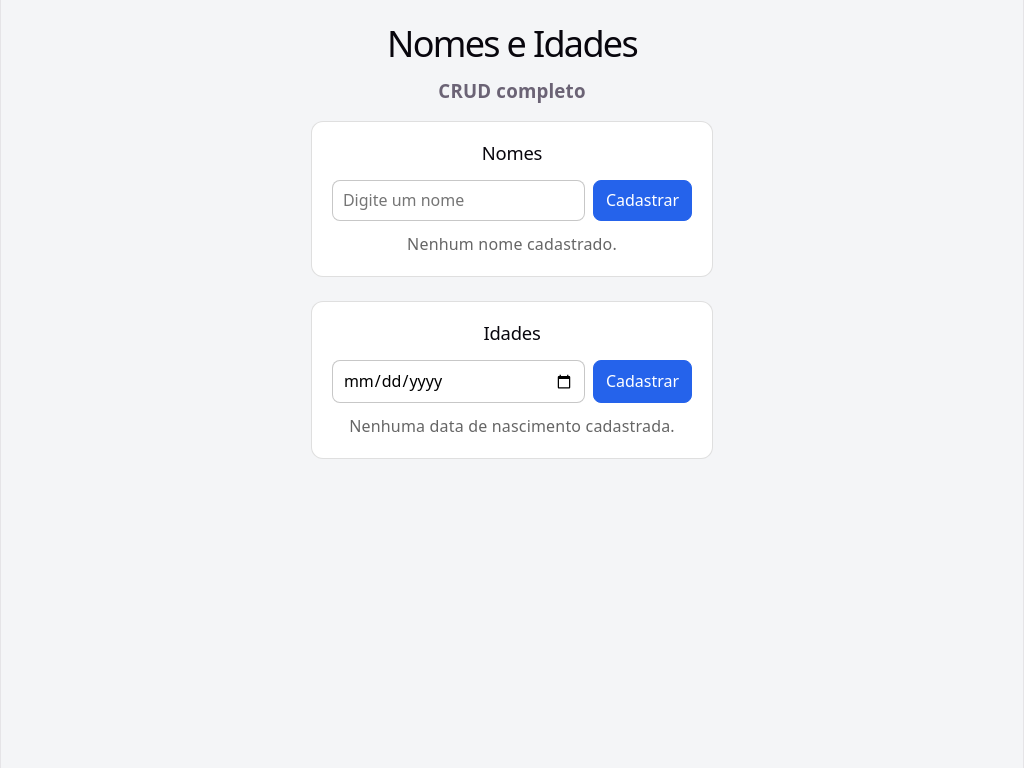
Test: nomes (CRUD) › cadastra um nome, mostra na lista e limpa o campo
Expected: the text "Nenhum nome cadastrado." is shown, [407,233,617,255]
Type "Maria" into the field named "Novo valor" at x=458, y=200, box [332,180,585,221]
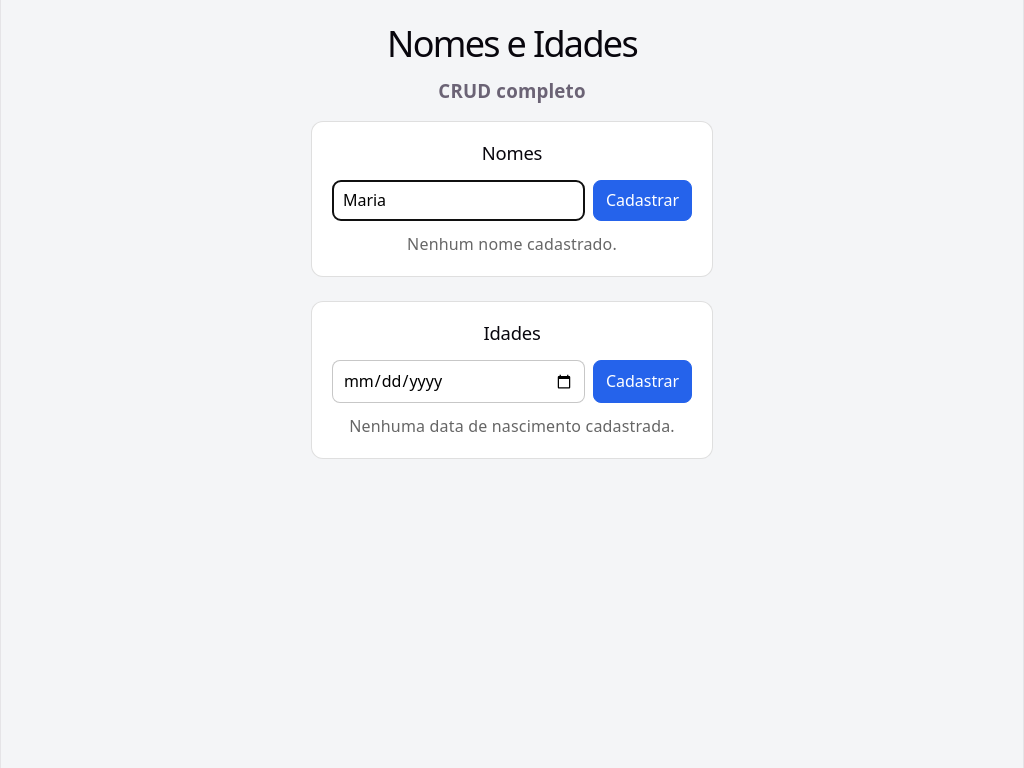
Click the 1st button "Cadastrar" at x=642, y=200, box [593,180,692,221]
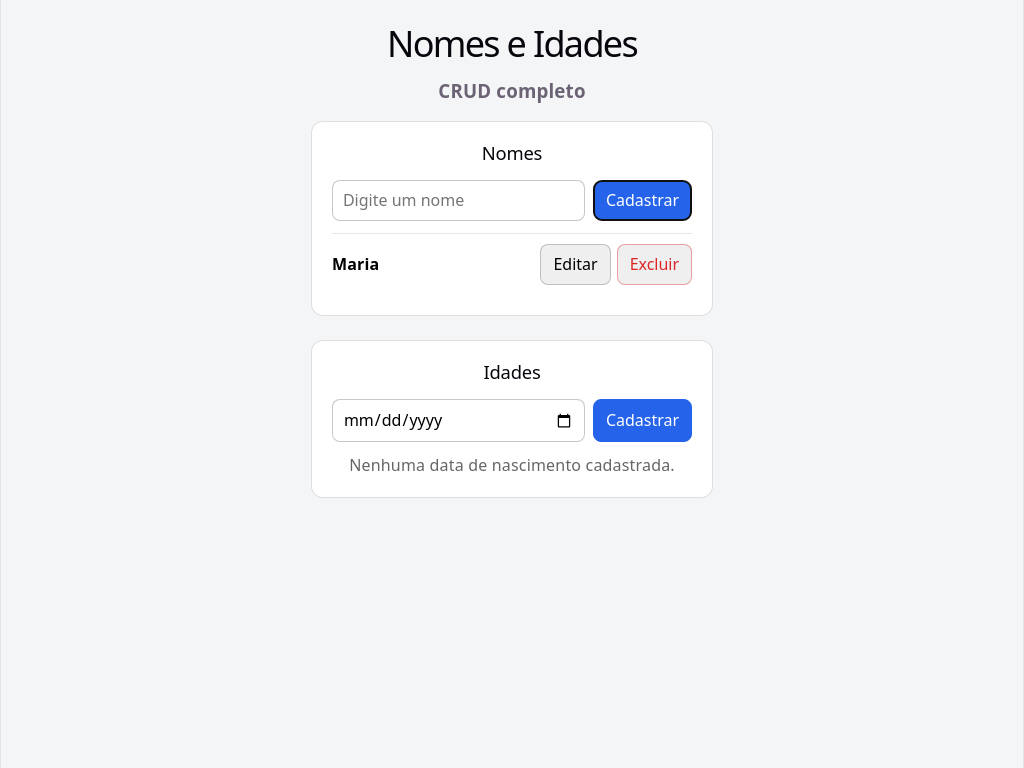
Expected: the text "Maria" is shown, [332,253,379,276]
Expected: the field named "Novo valor" is empty, [332,180,585,221]
Expected: the text "Nenhum nome cadastrado." is gone
